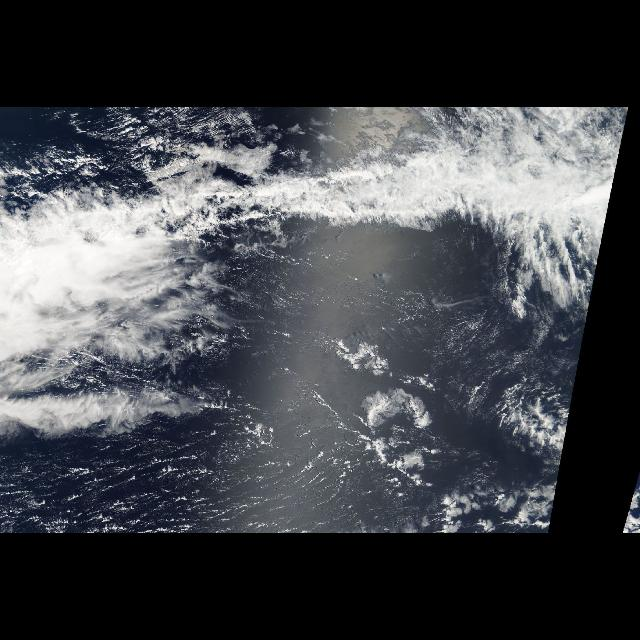Sugar: (12, 444, 362, 524), (262, 252, 498, 360)
